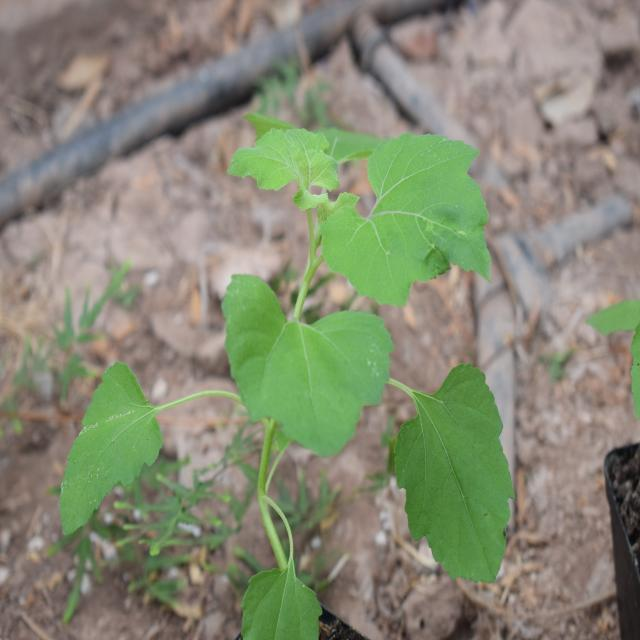cocklebur: (52, 99, 527, 561)
